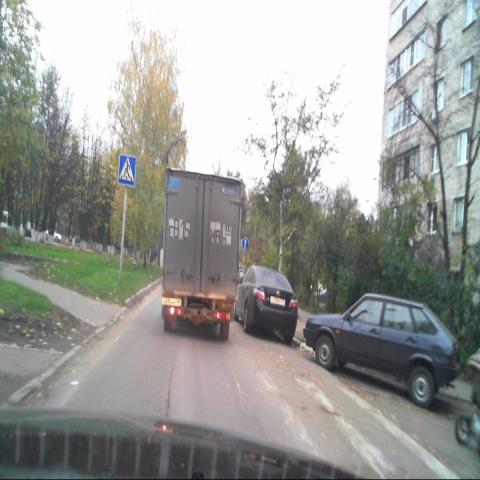4_1_1: (241, 237, 248, 251)
5_19_1: (118, 155, 136, 186)
